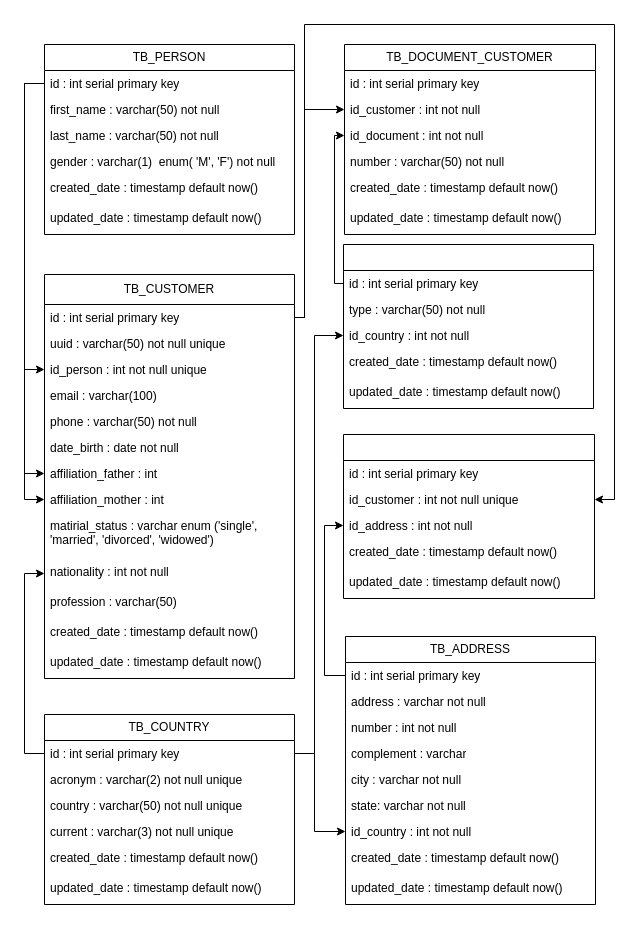
This 640x925 diagram has some shape labels left out. Each missing label, with the box of its shape:
TB_ADDRESS_CUSTOMER: (342, 434, 594, 598)
TB_DOCUMENT: (342, 244, 594, 408)
